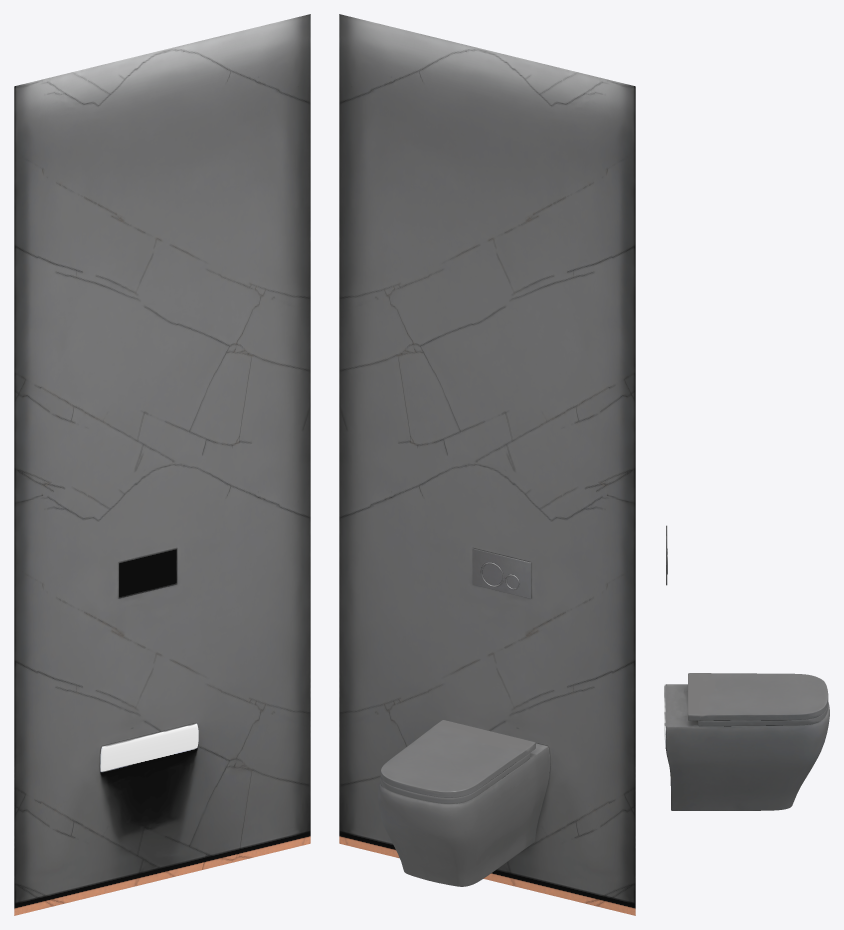
Rendered from Element_Plus_WC_01.glb.
3 views of the same model, side by side, from view 1: azimuth 30°, elevation 25°; view 2: azimuth 150°, elevation 25°; view 3: azimuth 270°, elevation 25° (orthographic). The views are drawn at different scales.
Parts seen in each view (by area): view 1: Element_Plus_WC_01; view 2: Element_Plus_WC_01; view 3: Element_Plus_WC_01.
Boxes of the visible parts, <box> form: Element_Plus_WC_01: <box>14,14,310,915</box>; Element_Plus_WC_01: <box>339,14,635,915</box>; Element_Plus_WC_01: <box>664,525,829,810</box>.
Bounding box in the file's own units: 3.68 × 9.85 × 1.93.
1 material, 1 textured.
